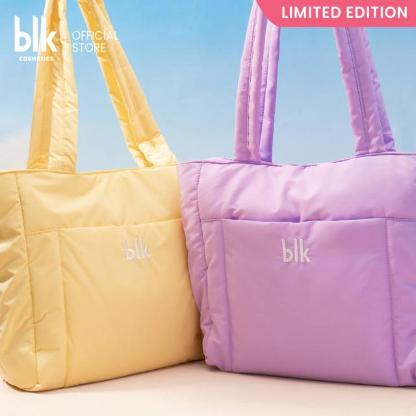bag: (179, 10, 416, 399), (0, 0, 204, 404)
